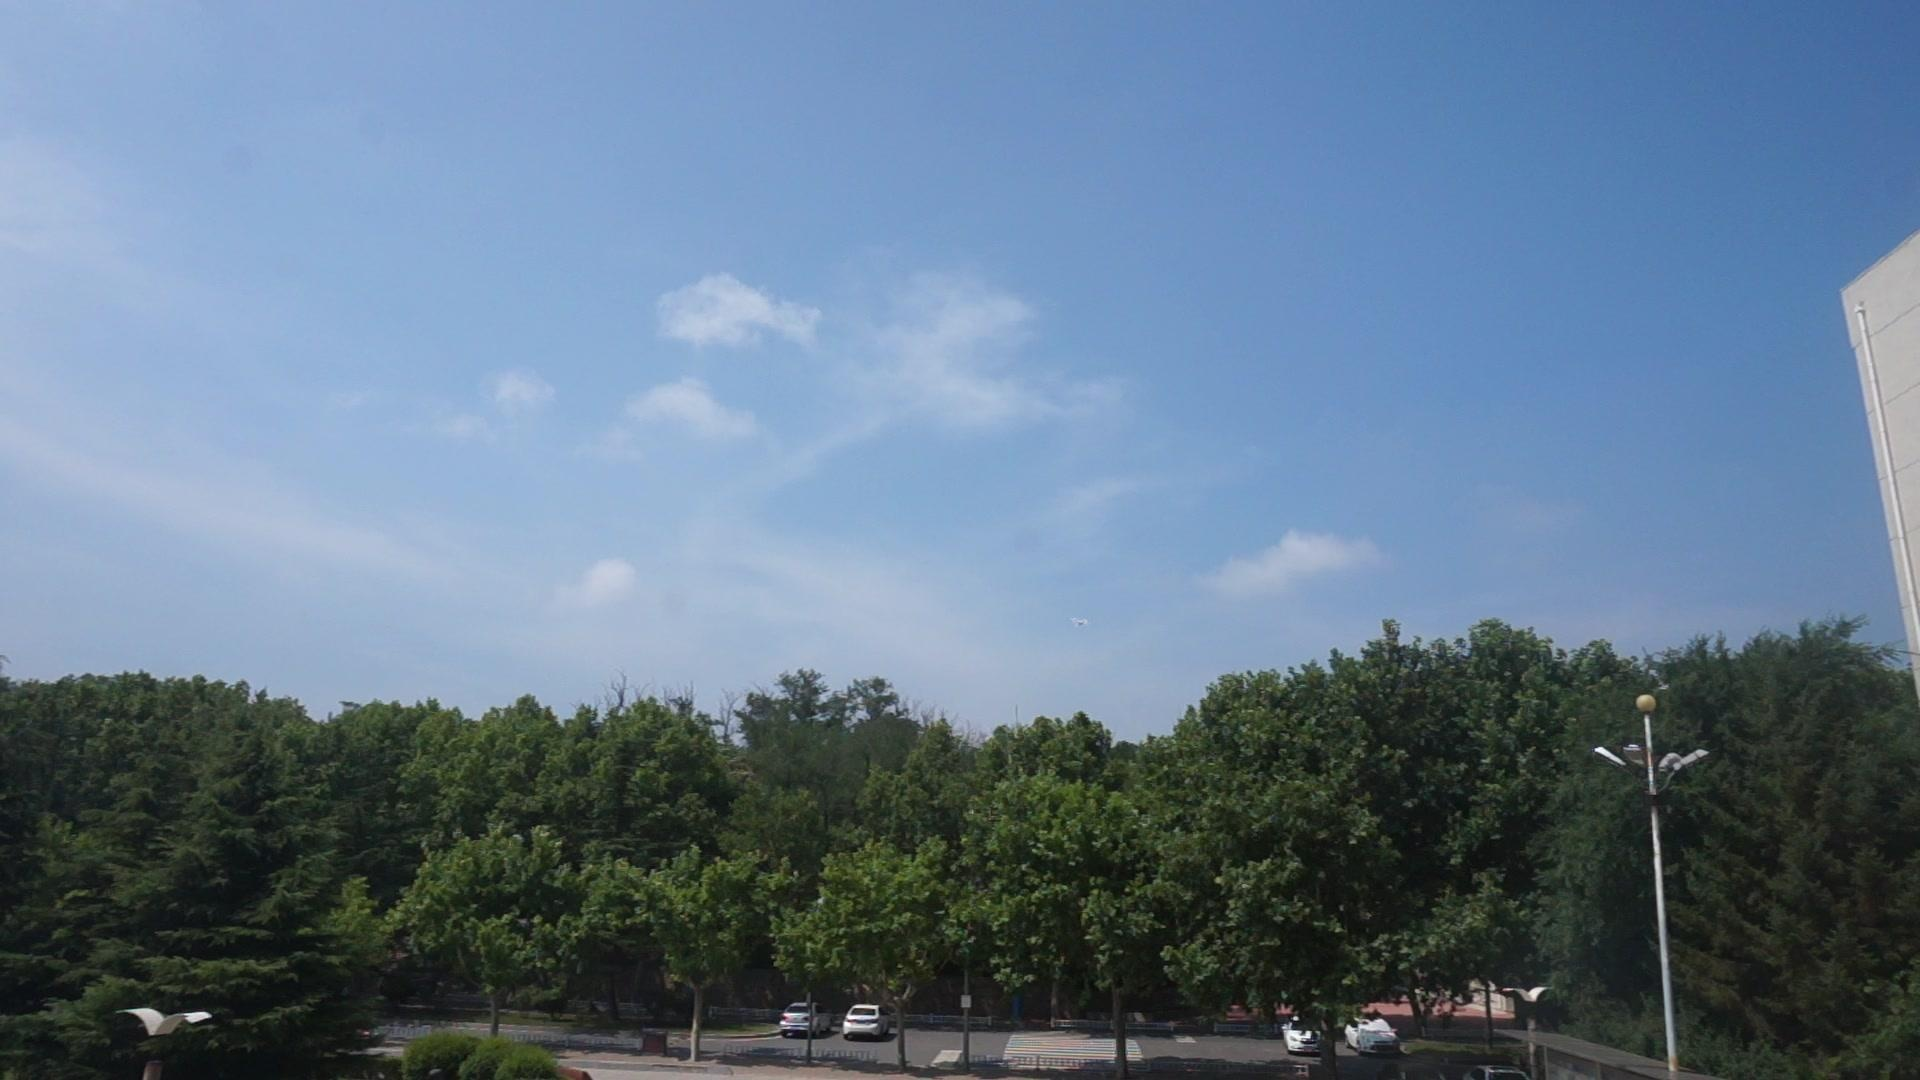UAV: (1071, 618, 1089, 628)
